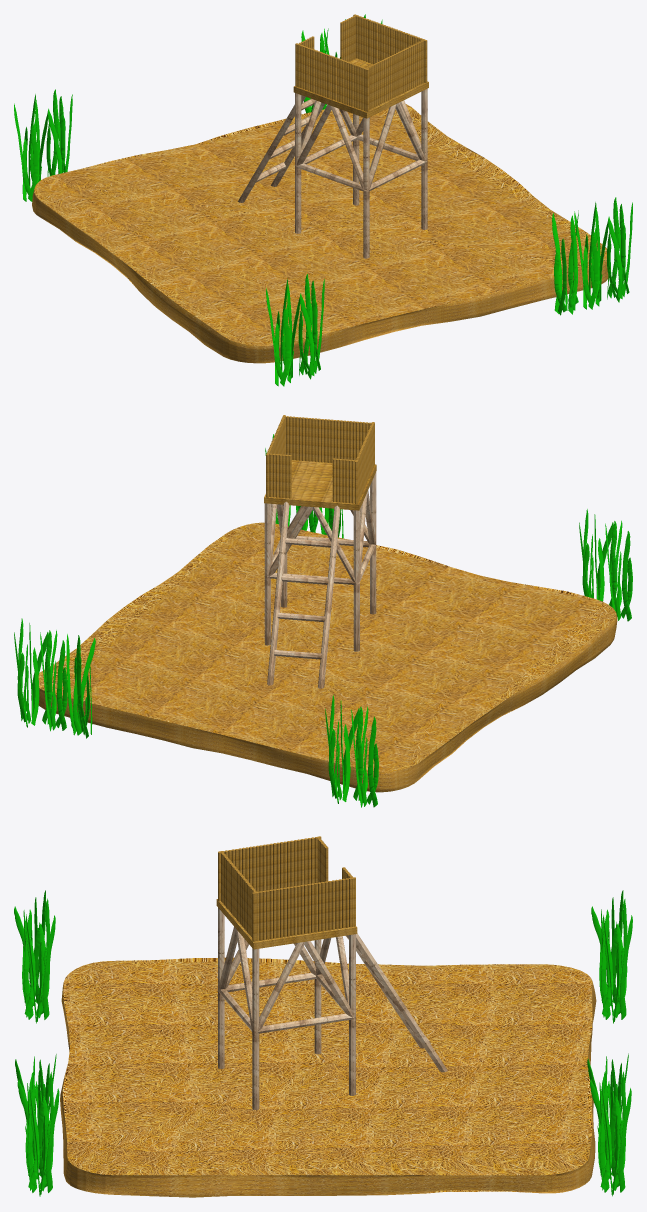
File: islaMirador.glb
3 renders of one model, top to bottom at view 1: azimuth 30°, elevation 25°; view 2: azimuth 150°, elevation 25°; view 3: azimuth 270°, elevation 25°, orthographic. The views are drawn at different scales.
Parts seen in each view (by area): view 1: Cube.001, Cylinder.008, Cone, Cone.006, Cone.002, Cone.001, Cone.007, Cone.008, Cone.009; view 2: Cube.001, Cylinder.008, Cone.008, Cone.004, Cone.007, Cone.005, Cone.003, Cone.009, Cone.006; view 3: Cube.001, Cylinder.008, Cone.002, Cone.003, Cone.006, Cone.009, Cone.001, Cone.007, Cone.008, Cone.004, Cone.005, Cone.
Boxes of the visible parts, x1,y1,x2,y2 form: Cube.001: (32, 104, 608, 363); Cylinder.008: (238, 14, 428, 258); Cone: (552, 210, 578, 315); Cone.006: (298, 274, 324, 379); Cone.002: (607, 197, 632, 302); Cone.001: (574, 202, 608, 309); Cone.007: (266, 278, 300, 386); Cone.008: (14, 94, 48, 201); Cone.009: (46, 89, 72, 176); Cube.001: (38, 522, 617, 792); Cylinder.008: (264, 415, 376, 688); Cone.008: (351, 706, 378, 807); Cone.004: (40, 630, 67, 731); Cone.007: (605, 520, 632, 621); Cone.005: (66, 634, 95, 738); Cone.003: (14, 618, 48, 727); Cone.009: (325, 695, 359, 803); Cone.006: (579, 509, 613, 601); Cube.001: (60, 957, 596, 1197); Cylinder.008: (216, 836, 447, 1110); Cone.002: (27, 1083, 59, 1196); Cone.003: (599, 1082, 631, 1196); Cone.006: (23, 909, 55, 1023); Cone.009: (601, 909, 632, 1023); Cone.001: (17, 1063, 53, 1179); Cone.007: (14, 890, 50, 1005); Cone.008: (591, 890, 627, 1006); Cone.004: (590, 1063, 626, 1178); Cone.005: (587, 1053, 628, 1160); Cone: (15, 1054, 56, 1160).
Size of the model in its own units: 9.34 by 4.95 by 11.25.
Materials: 13 (3 with a texture image).
